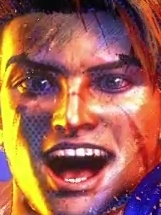kevin: (3, 7, 159, 204)
